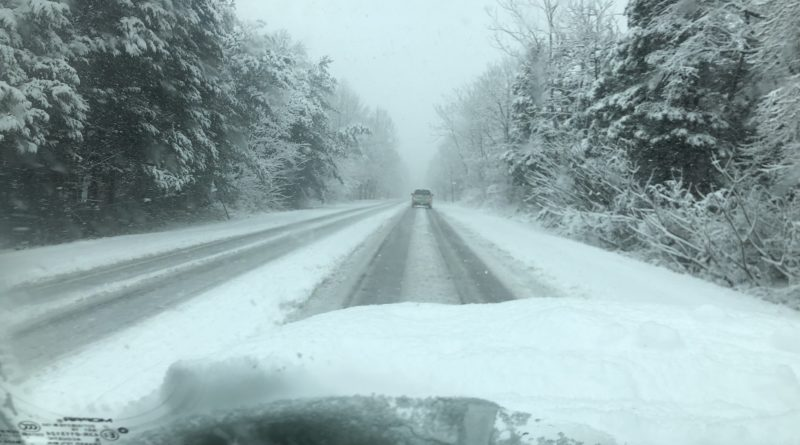car: (410, 187, 436, 211)
